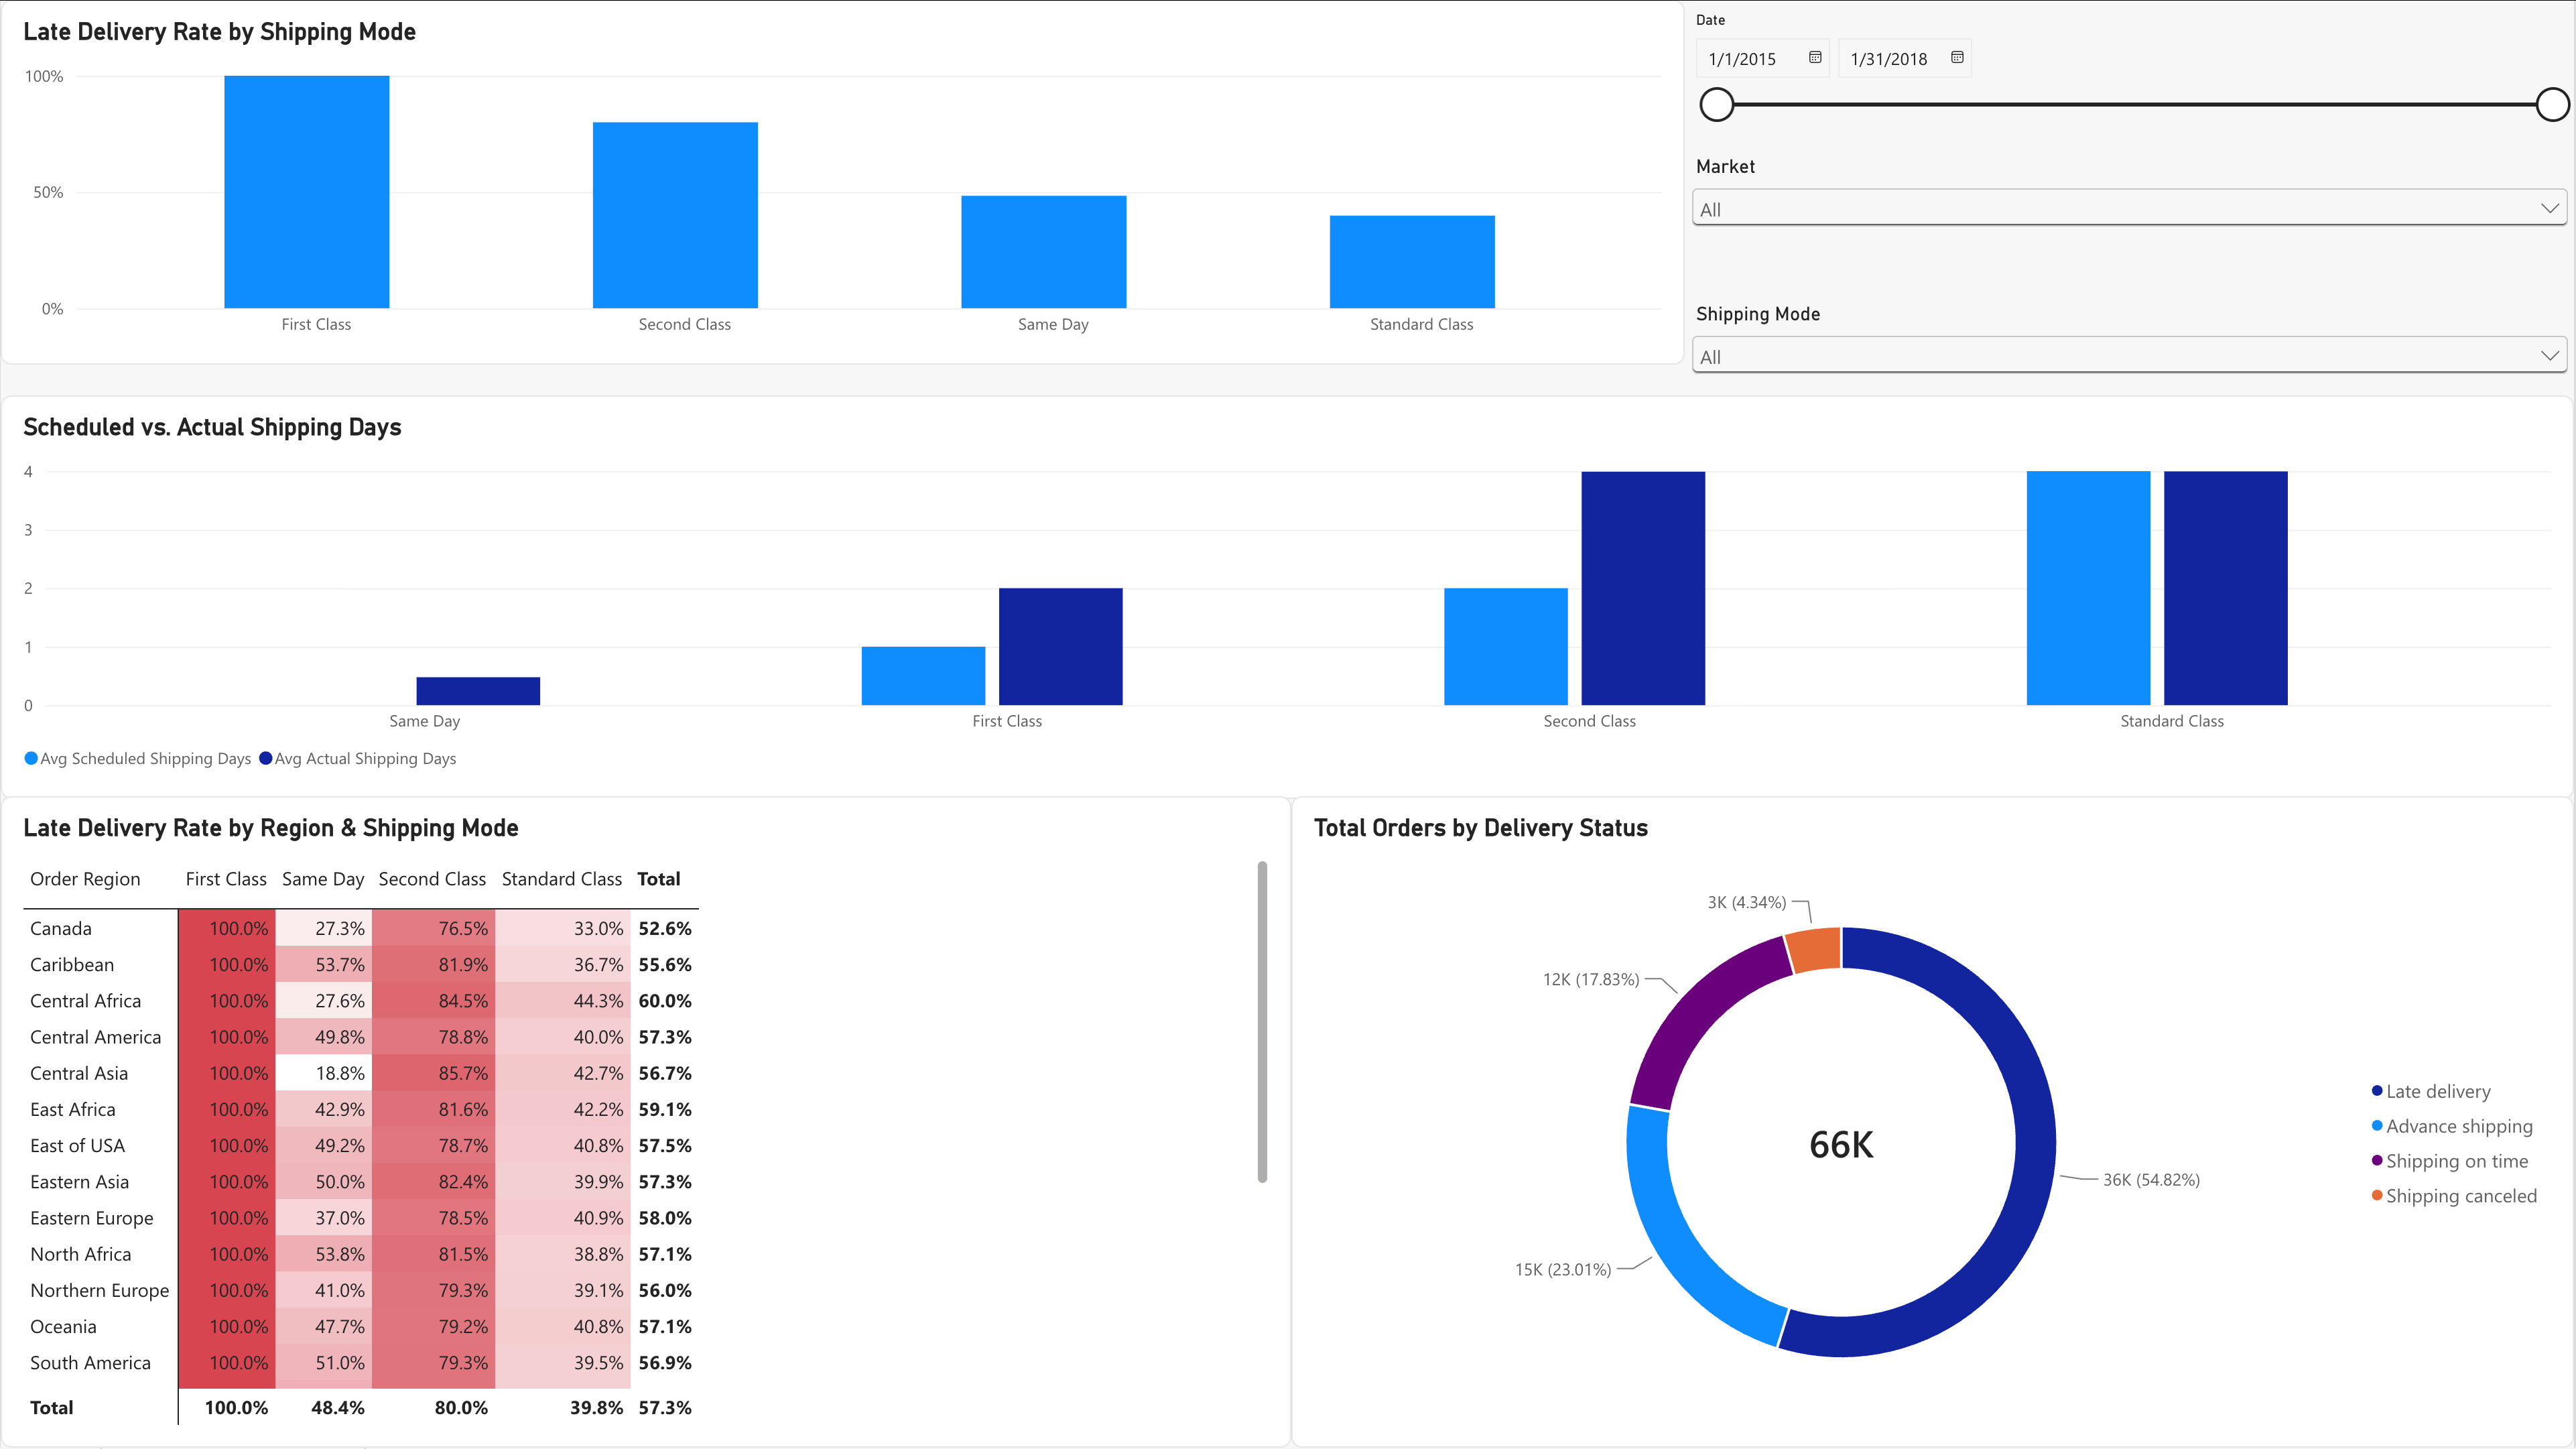

What the dashboard file says about the page in this screenshot:
{"tool":"powerbi","page":{"name":"Delivery Analysis","canvas":[1920,1080],"ordinal":1},"visuals":[{"type":"slicer","fields":{"Values":["Date Table.Date"]},"box":[1256.7,10,663.3,106.7],"z":0},{"type":"slicer","fields":{"Values":["Orders.Market"]},"box":[1256.7,116.7,663.3,80],"z":1000},{"type":"slicer","fields":{"Values":["Orders.Shipping Mode"]},"box":[1256.7,226.7,663.3,93.3],"z":2000},{"type":"clusteredColumnChart","fields":{"Category":["Orders.Shipping Mode"],"Y":["Orders.Late Delivery Rate"]},"box":[0,0,1256.3,272],"z":3000},{"type":"clusteredColumnChart","title":"Scheduled vs. Actual Shipping Days","fields":{"Category":["Orders.Shipping Mode"],"Y":["Orders.Avg Scheduled Shipping Days","Orders.Avg Actual Shipping Days"]},"box":[0,294.6,1920,301.1],"z":4000},{"type":"pivotTable","title":"Late Delivery Rate by Region & Shipping Mode","fields":{"Columns":["Orders.Shipping Mode"],"Rows":["Orders.Order Region"],"Values":["Orders.Late Delivery Rate"]},"box":[0,593.9,963.2,485.9],"z":5000},{"type":"donutChart","fields":{"Category":["Orders.Delivery Status"],"Y":["Orders.Total Orders"]},"box":[963.2,593.9,956.8,485.9],"z":6000}]}

Visuals, with their boxes in screenshot pixels (x1, y1, x2, y2), scaled from the page's 1920x1080 canvas onto the 2576x1449 screenshot:
slicer - Date Table.Date: bbox=(1686, 13, 2575, 157)
slicer - Orders.Market: bbox=(1686, 157, 2575, 264)
slicer - Orders.Shipping Mode: bbox=(1686, 304, 2575, 430)
clusteredColumnChart - Orders.Shipping Mode x Orders.Late Delivery Rate: bbox=(0, 0, 1685, 365)
"Scheduled vs. Actual Shipping Days" clusteredColumnChart: bbox=(0, 395, 2575, 800)
"Late Delivery Rate by Region & Shipping Mode" pivotTable: bbox=(0, 797, 1292, 1448)
donutChart - Orders.Delivery Status x Orders.Total Orders: bbox=(1292, 797, 2575, 1448)
